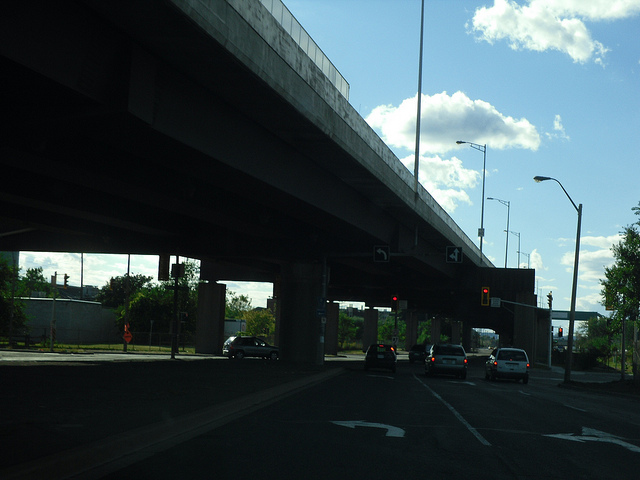car: (220, 333, 286, 366)
